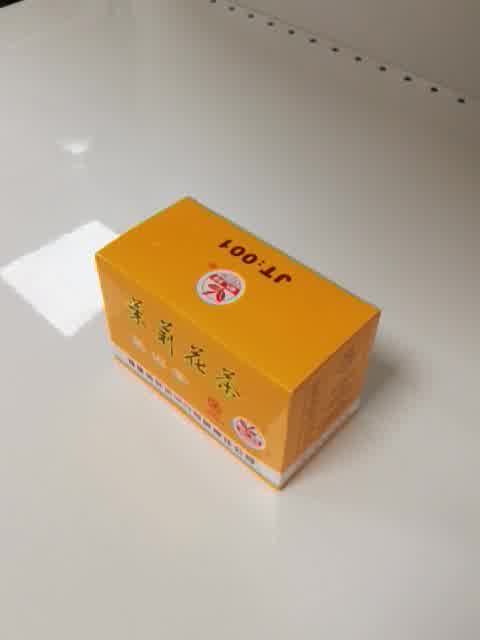jasminetea: (95, 194, 382, 491)
